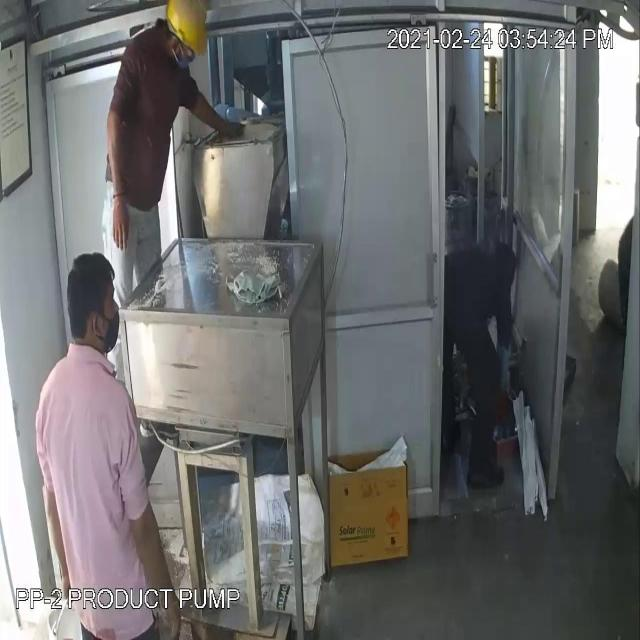no-helmet: (49, 248, 141, 324)
